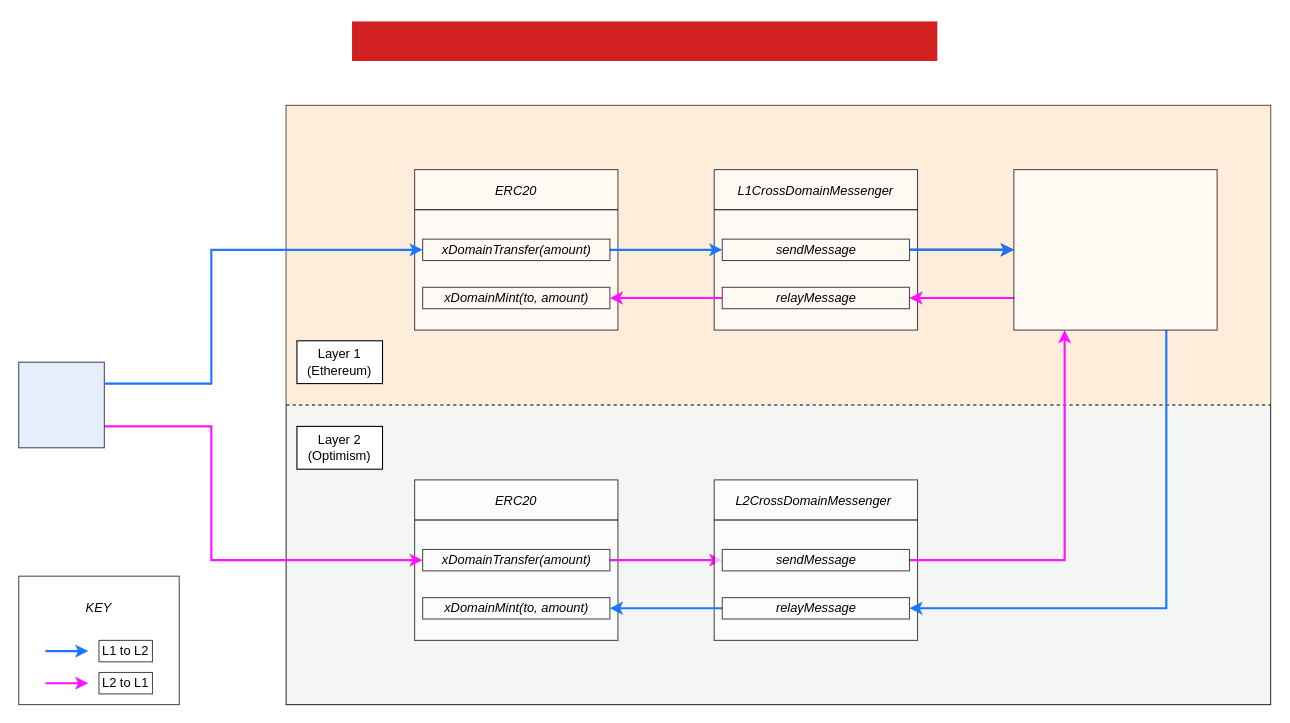
The diagram is 1290 pixels wide and 723 high, and some of its shapes have lost their labels. The shapes that lost their labels are listed below. From the top down, each one's box as (x1, y1, x2, y2) in pixels, then its label:
(348, 18, 940, 64): Passing Messages Between Layer 1 and Layer 2
(1013, 169, 1217, 330): Rollup Contracts
(18, 361, 104, 448): User
